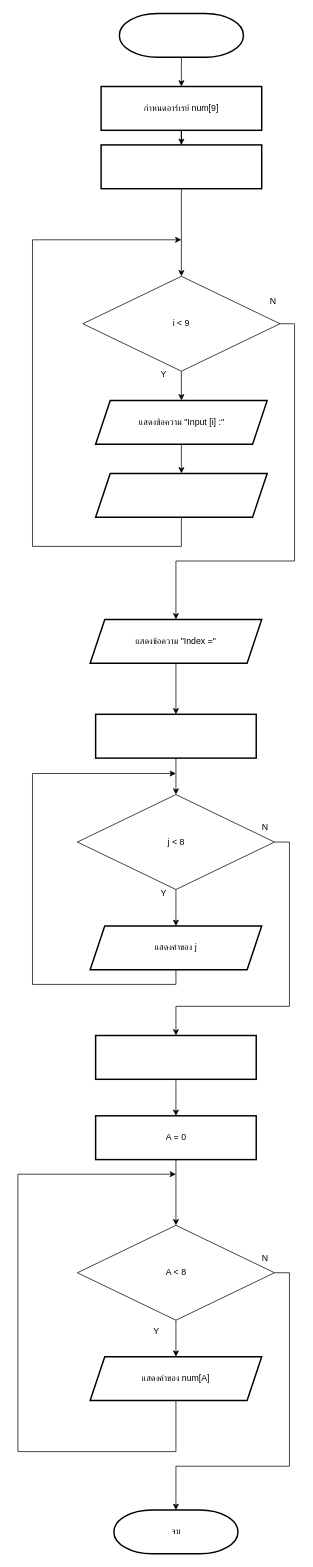
This 313x1567 diagram has some shape labels left out. The centre of each missing label's shape, as x and y in pixels:
i = 0: (181,166)
j = 0: (176,735)
รับค่าจากผู้ใช้และเก็บใน num[i]: (181,495)
เริ่ม: (181,35)
แสดงข้อความ "Array =": (176,1057)
